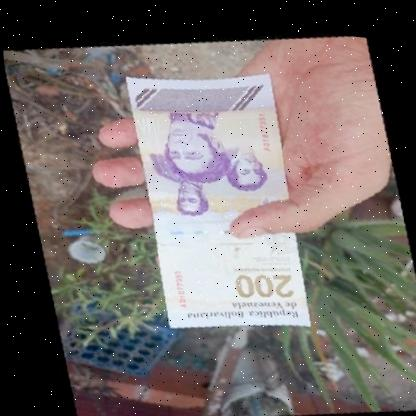two_hundred-front-vef: (122, 54, 308, 337)
